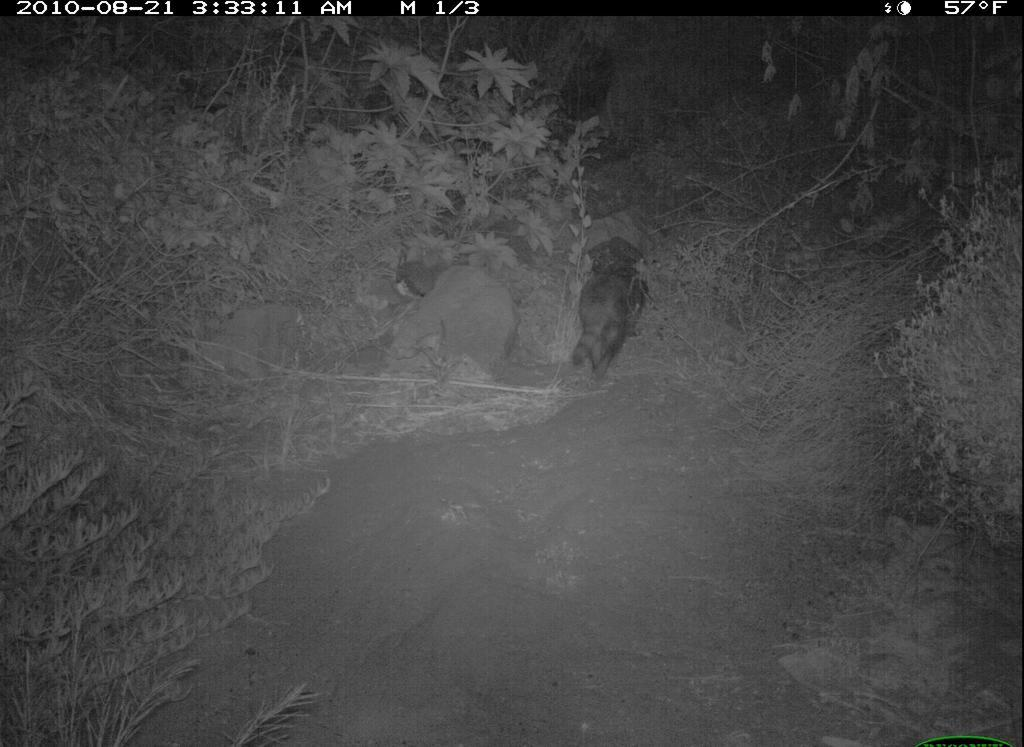raccoon: (561, 231, 660, 385)
